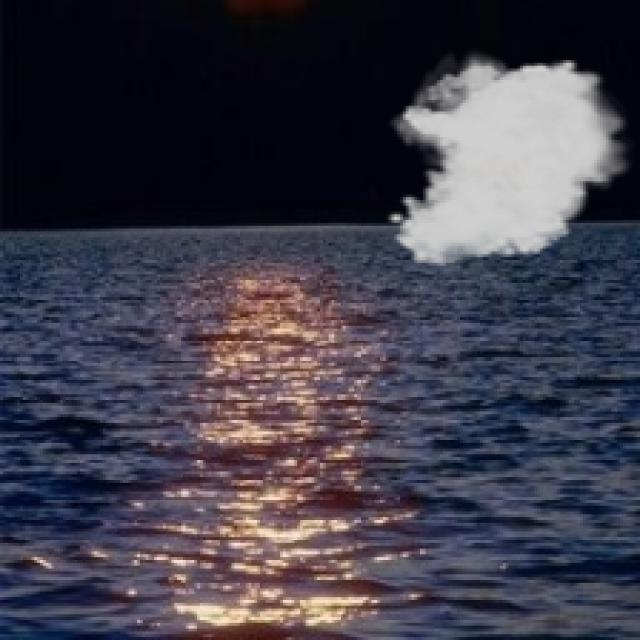Smoke: (386, 45, 638, 268)
